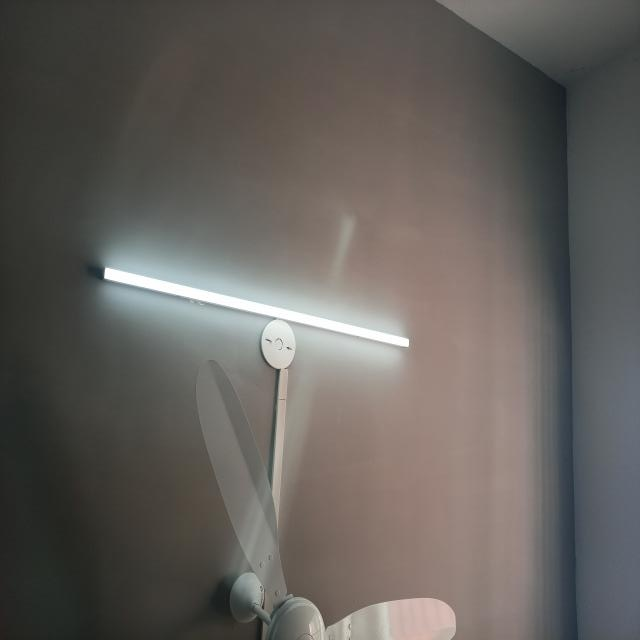fluorescent tube: (98, 260, 414, 353)
